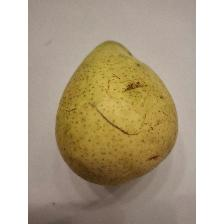Birne: (50, 37, 182, 188)
